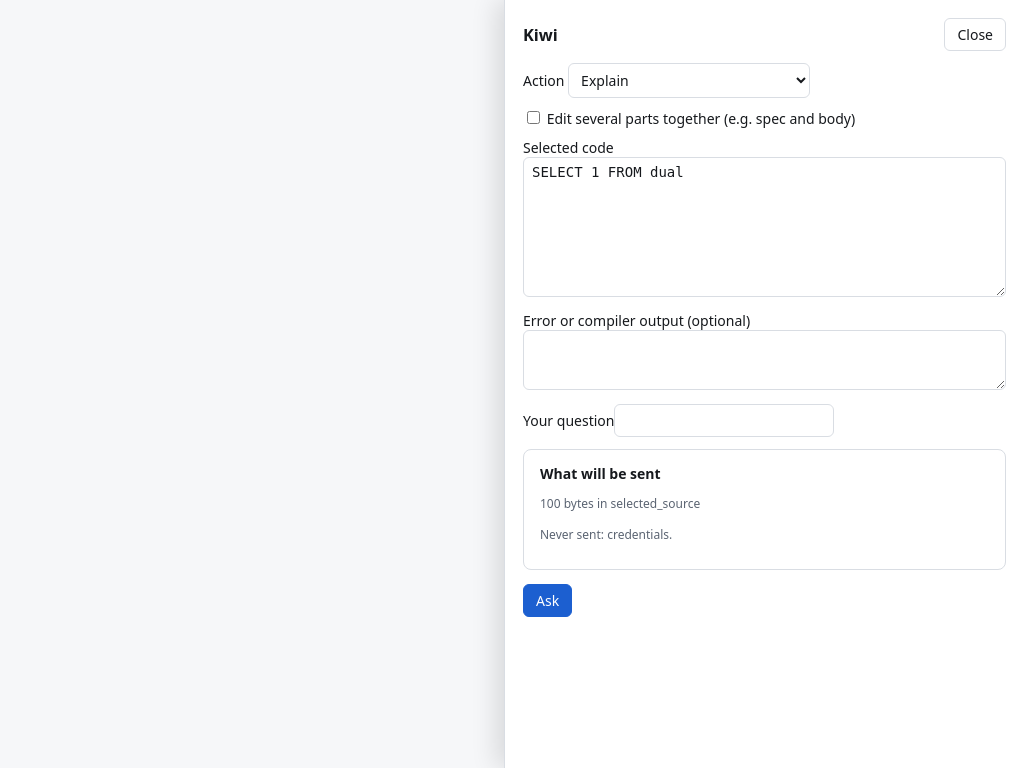
Test case: incomplete proposals › shows the code check for an answer with no editor
Click the button "Ask". click: x=548, y=600
box: [523,584,572,617]
(page scrolled)
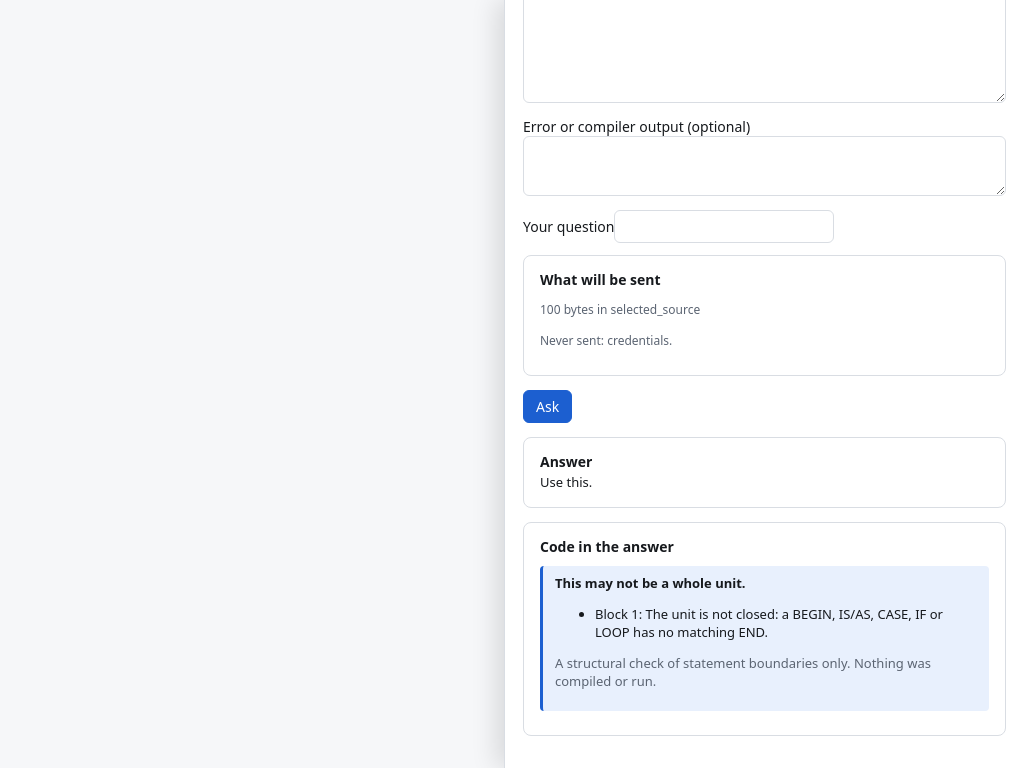
expect the message shows "Block 1: The unit is not closed": met, box [595,604,943,640]
